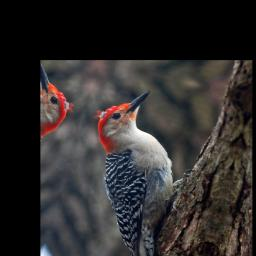Woodpecker: (51, 80, 213, 256)
